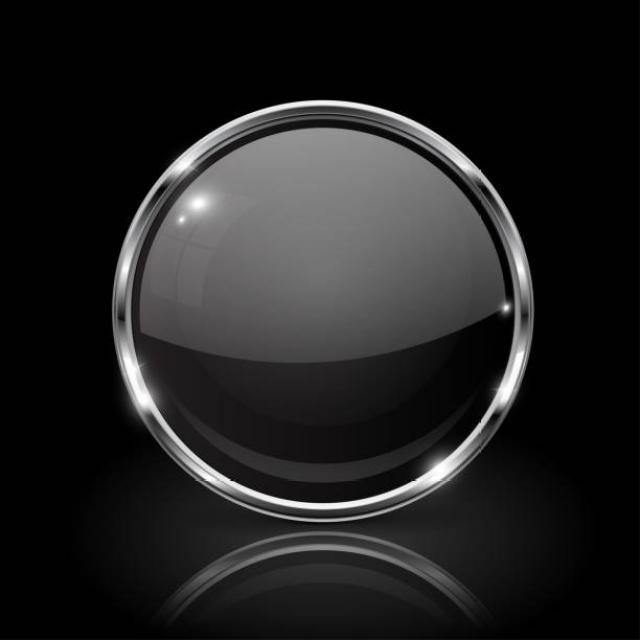hidden camera: (86, 89, 580, 549)
